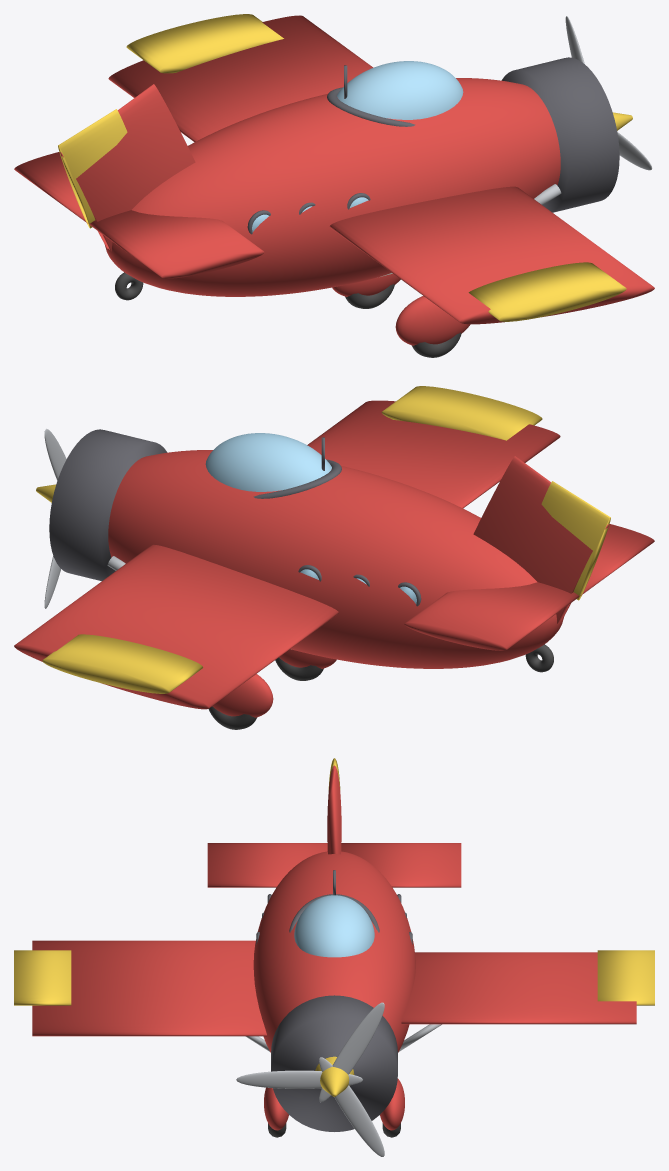
Rendered from plane_detailed.glb.
3 renders of one model, top to bottom at view 1: azimuth 30°, elevation 25°; view 2: azimuth 150°, elevation 25°; view 3: azimuth 270°, elevation 25°, orthographic. The views are drawn at different scales.
Visible parts, largest first — view 1: Sphere; view 2: Sphere; view 3: Sphere.
Part boxes in pixels (x1,y1,x2,y2): Sphere: [14, 14, 654, 357]; Sphere: [14, 386, 654, 729]; Sphere: [14, 758, 654, 1156].
Size of the model in its own units: 5.56 by 2.86 by 6.26.
